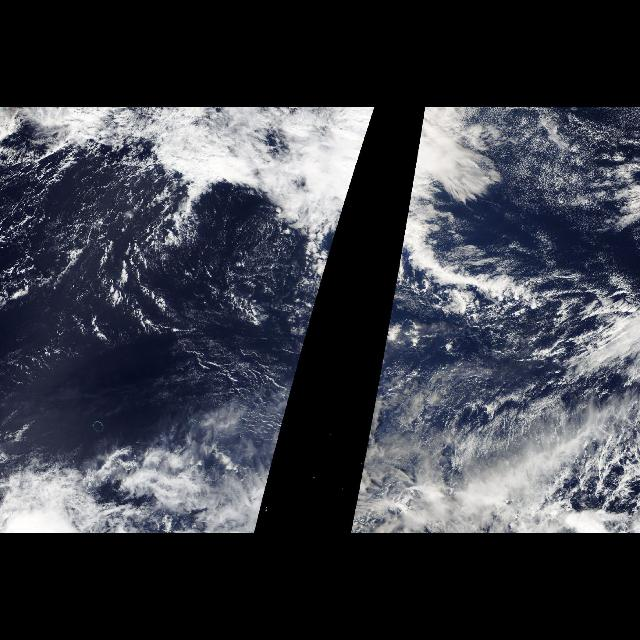Gravel: (2, 172, 256, 346)
